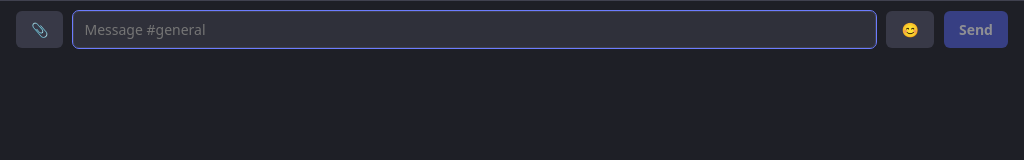
Test: Composer ':' suggestions › completes with Enter, puts the caret after it, and does not send
In the dropdown with placeholder "Message #general": (475, 30) [74,11,876,48], type "look :pa"
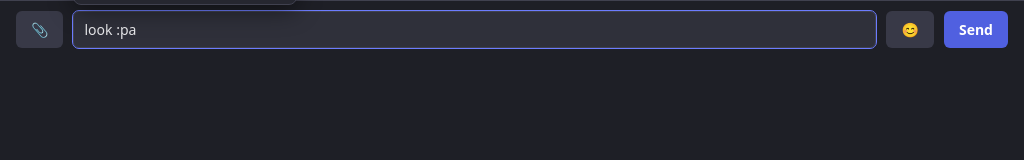
Press Enter in the dropdown with placeholder "Message #general", box [74,11,876,48]
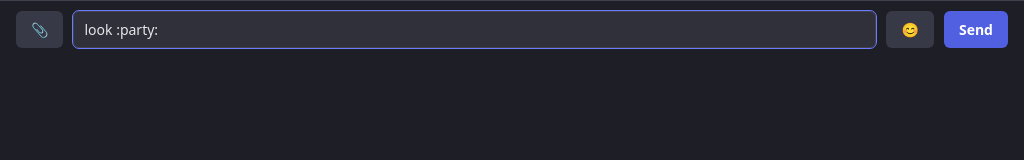
Expected: the dropdown with placeholder "Message #general" holds "look :party: ", [74,11,876,48]
